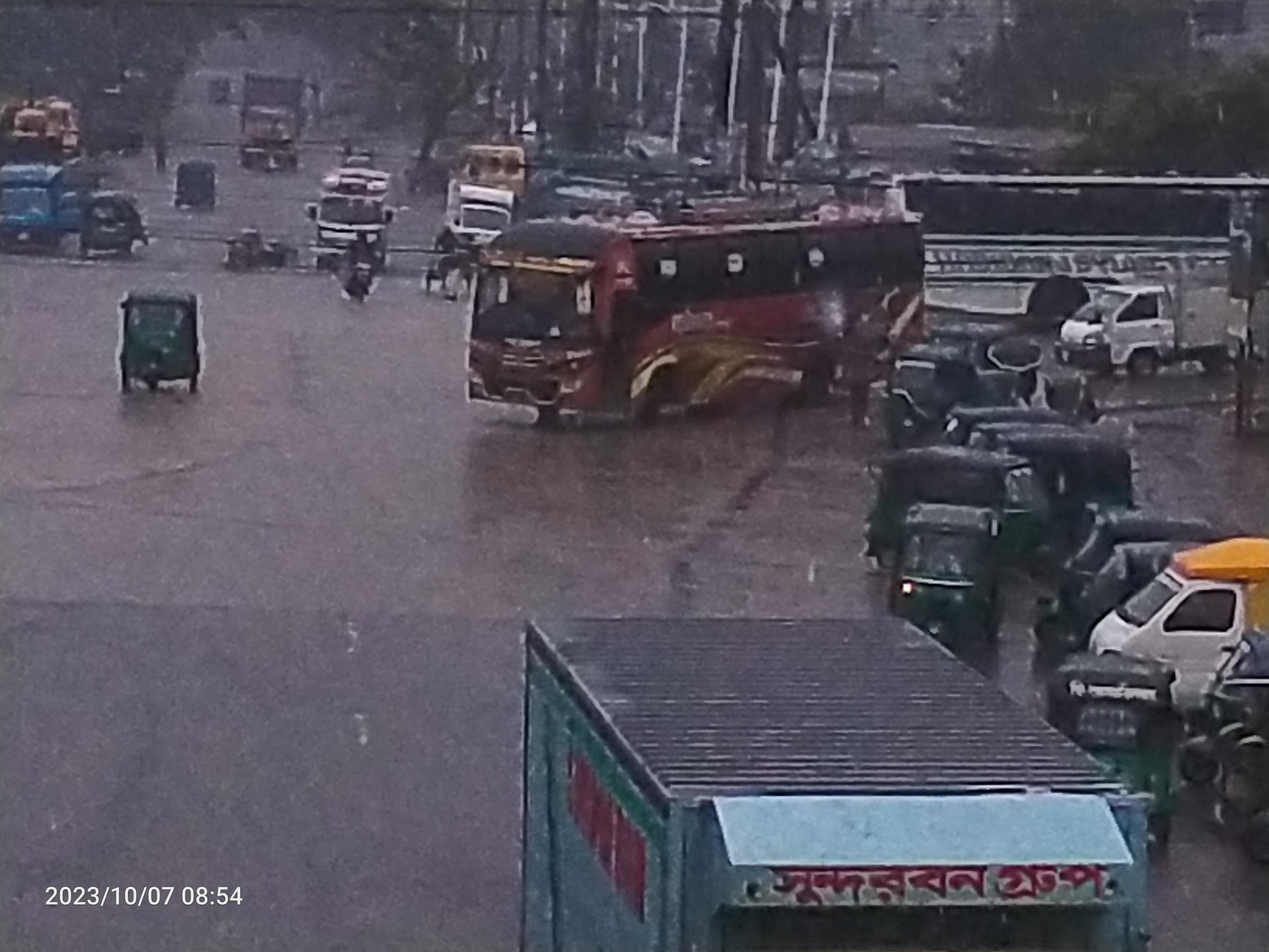Bike: (334, 223, 388, 321)
Bus: (424, 187, 965, 436), (863, 148, 1269, 366)
Car: (1056, 526, 1269, 721), (840, 426, 1082, 568), (57, 255, 236, 444), (867, 494, 1024, 652), (869, 337, 1009, 446), (304, 172, 402, 284), (431, 168, 526, 275)
Truck: (432, 566, 1187, 952), (219, 54, 320, 178)
